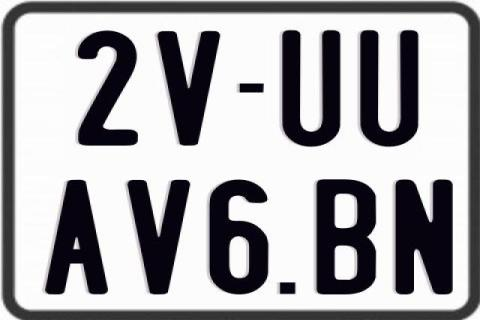0: (206, 180, 271, 296), (76, 31, 137, 147)
A: (44, 180, 111, 294)
B: (316, 180, 382, 300)
N: (394, 179, 458, 297)
U: (282, 29, 340, 149), (360, 31, 418, 150)
V: (124, 180, 189, 297), (158, 30, 220, 150)
